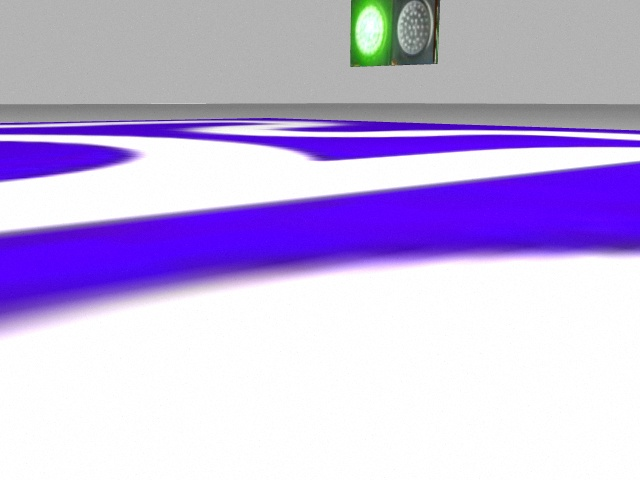green: (349, 1, 392, 67)
